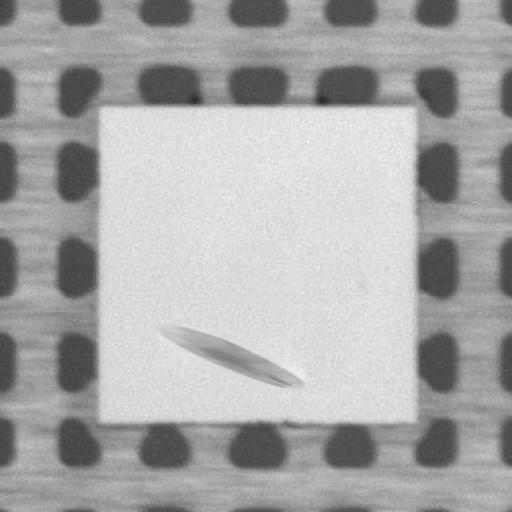DIE_INK: (151, 320, 308, 392)
